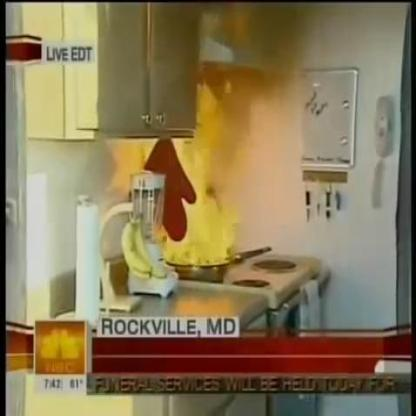fire: (158, 116, 238, 266)
